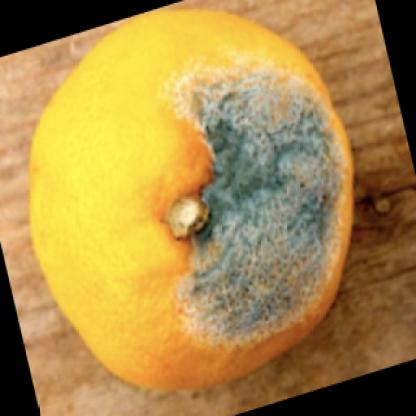rotten: (30, 14, 356, 394)
